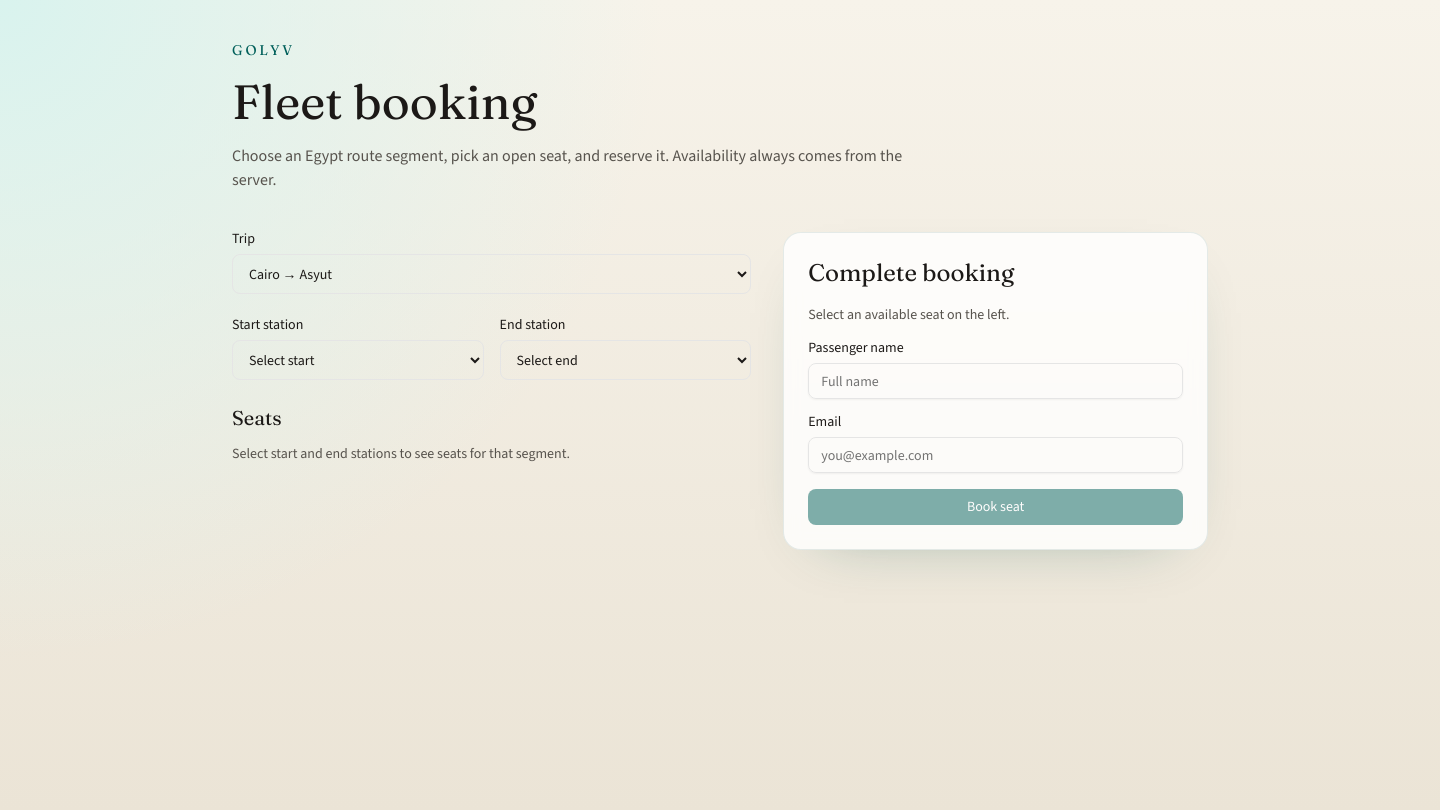
Test: BookingWorkbench › handles booking conflict by refreshing seats and clearing selection
The image size is (1440, 810).
Check: the dropdown labelled "Trip" is shown, box [232, 254, 751, 294]
Select "Cairo" in the dropdown labelled "Start station": (358, 360) [232, 340, 484, 380]
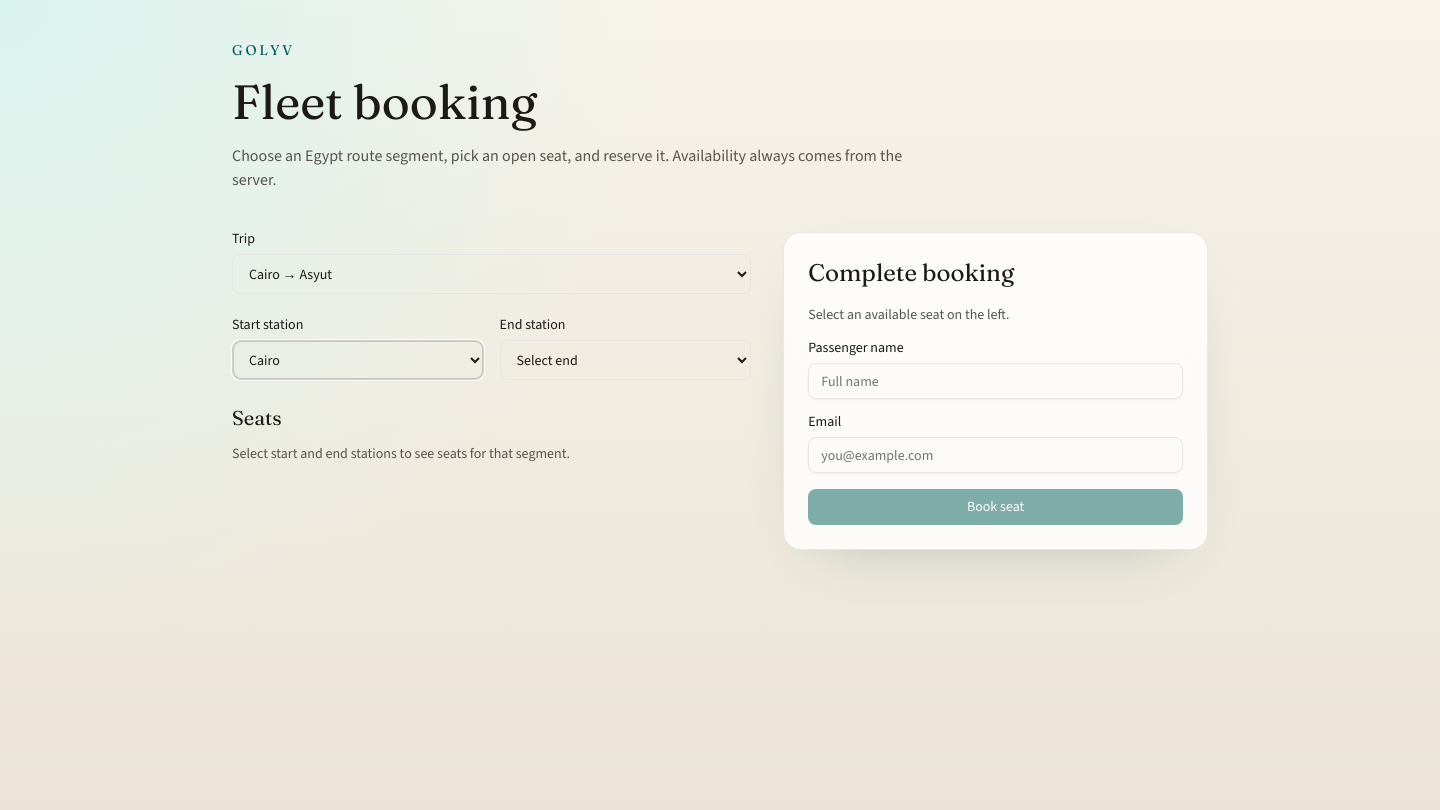
Select "Al Minya" in the dropdown labelled "End station": (625, 360) [500, 340, 751, 380]
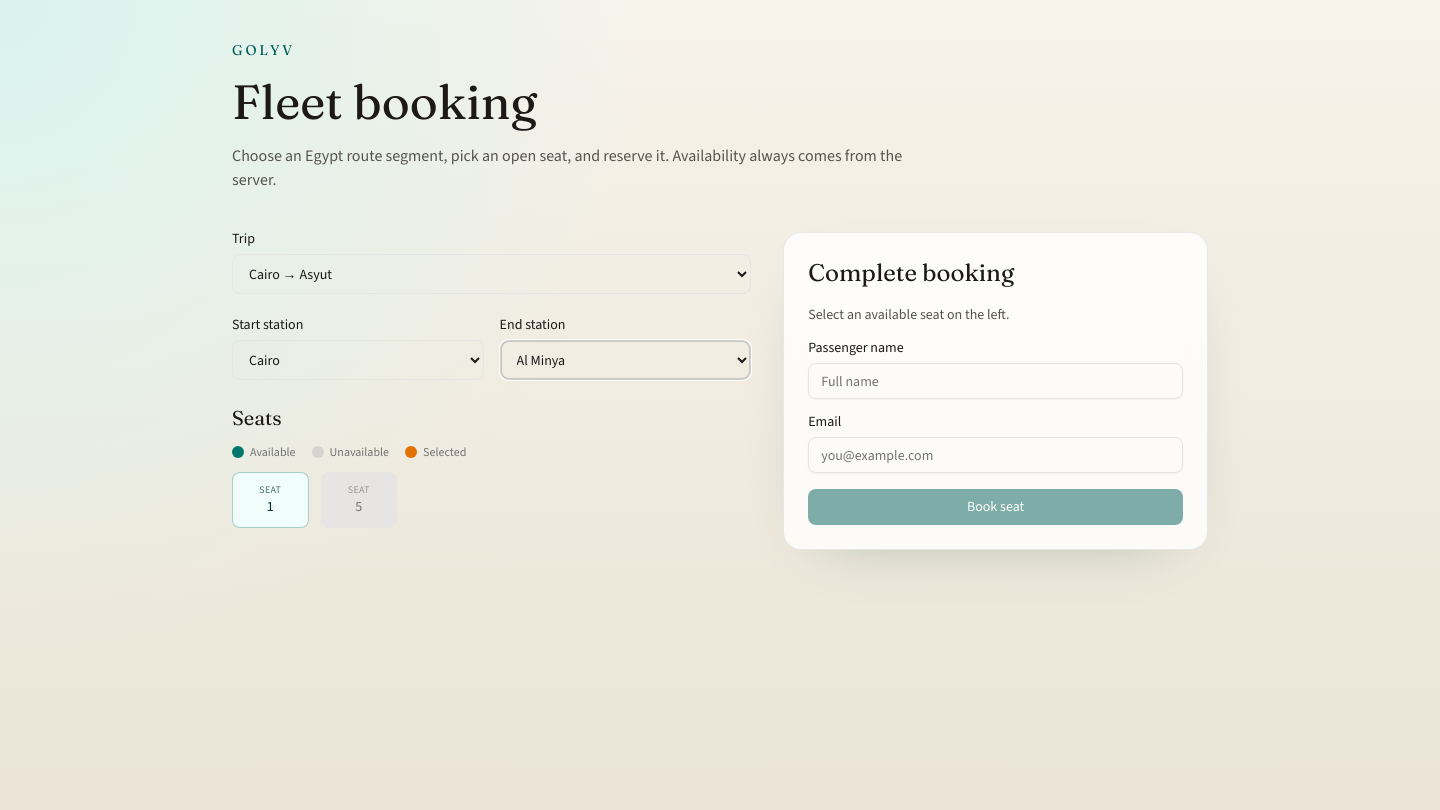
Click the option "Seat 1": (270, 500) [232, 472, 308, 528]
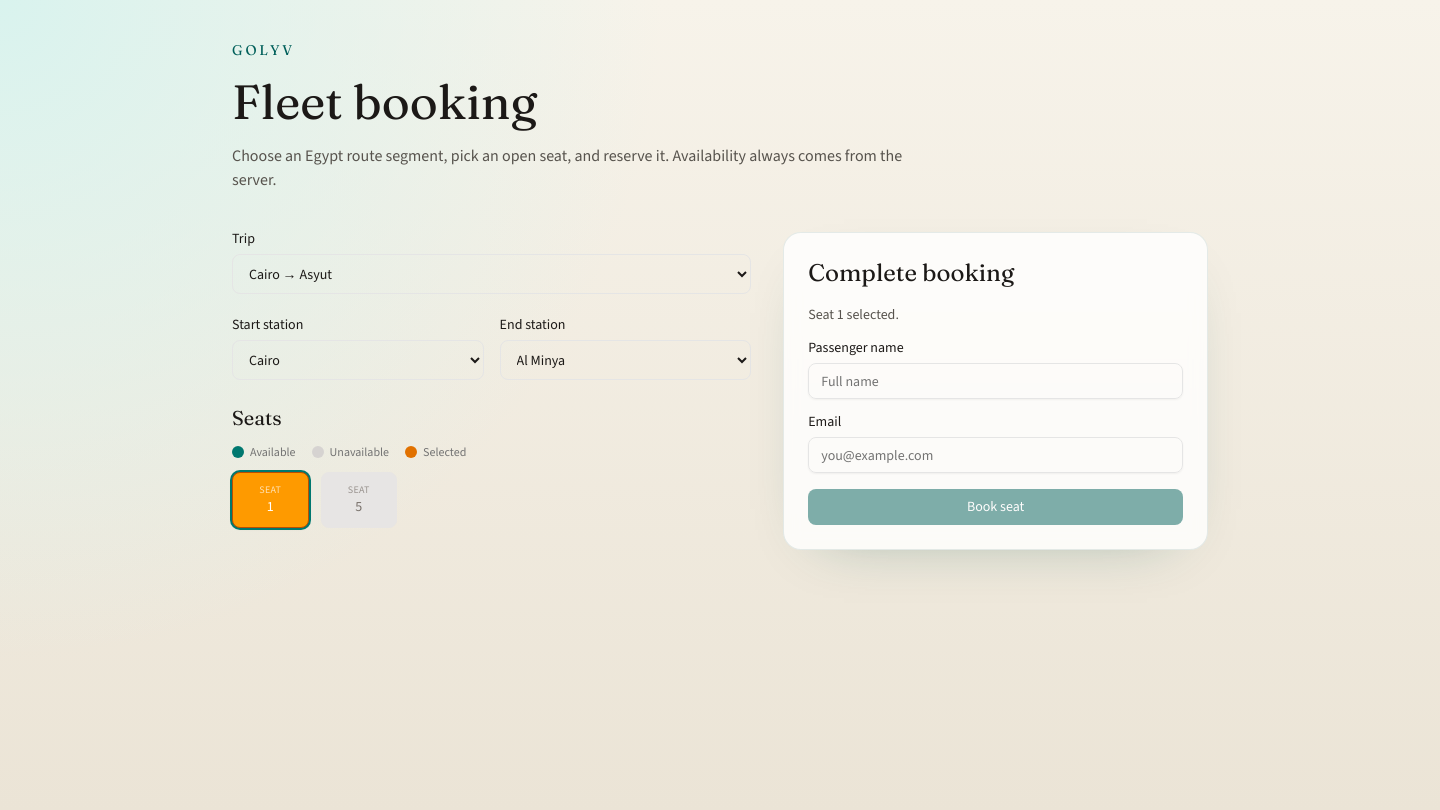
In the field labelled "Passenger name": (996, 381) [808, 363, 1183, 399], type "Ada"
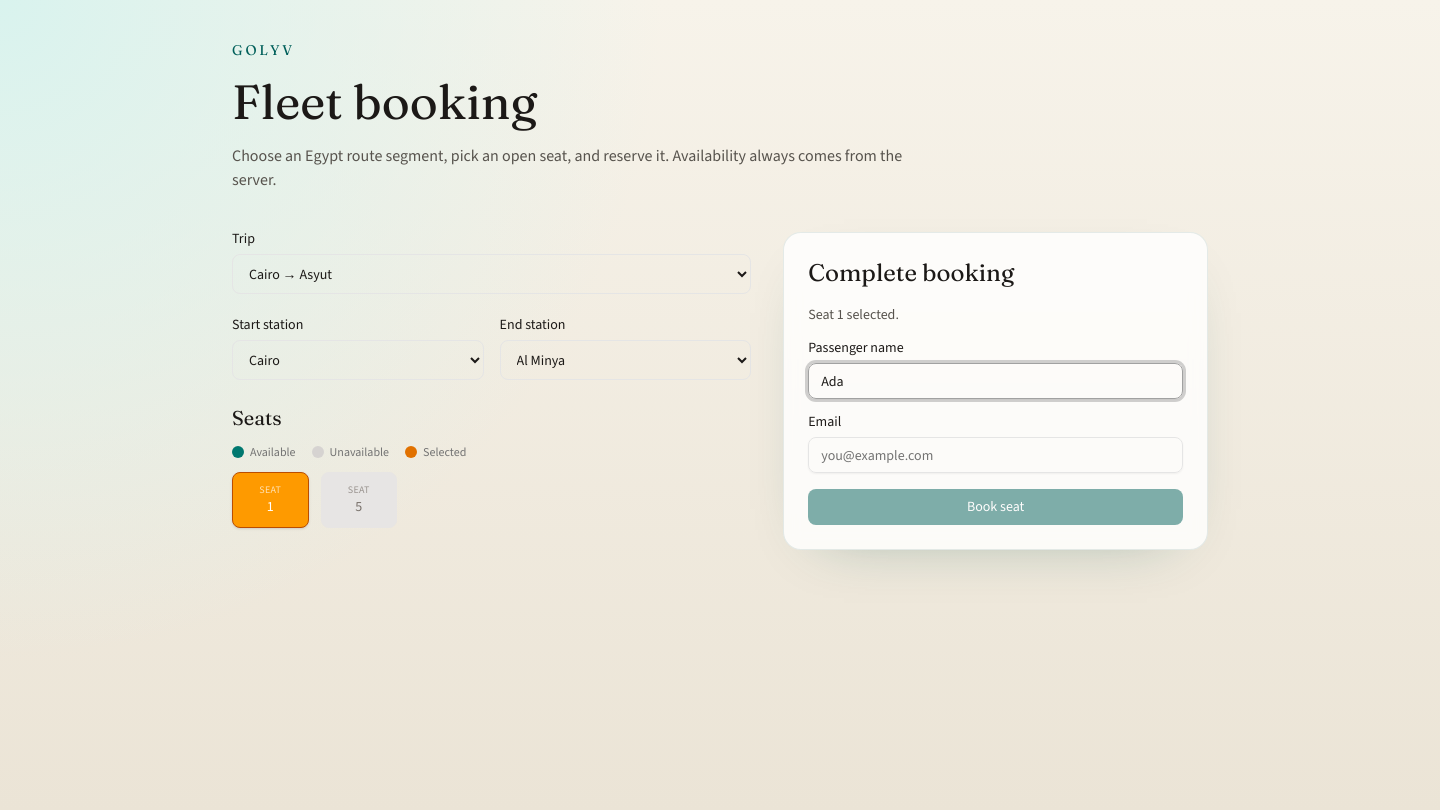
In the field labelled "Email": (996, 455) [808, 437, 1183, 473], type "ada@example.com"
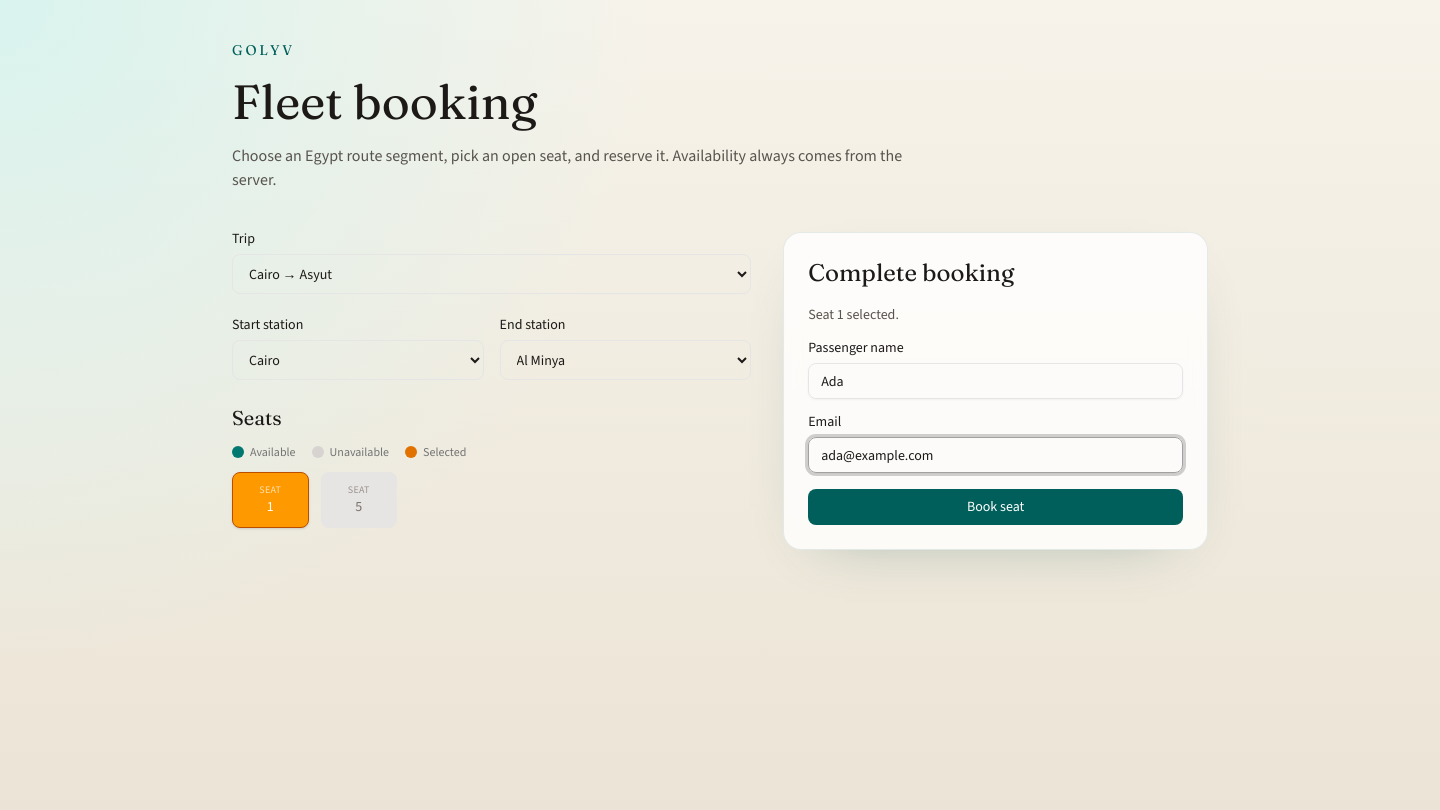
Click the button "Book seat": (996, 507) [808, 489, 1183, 525]
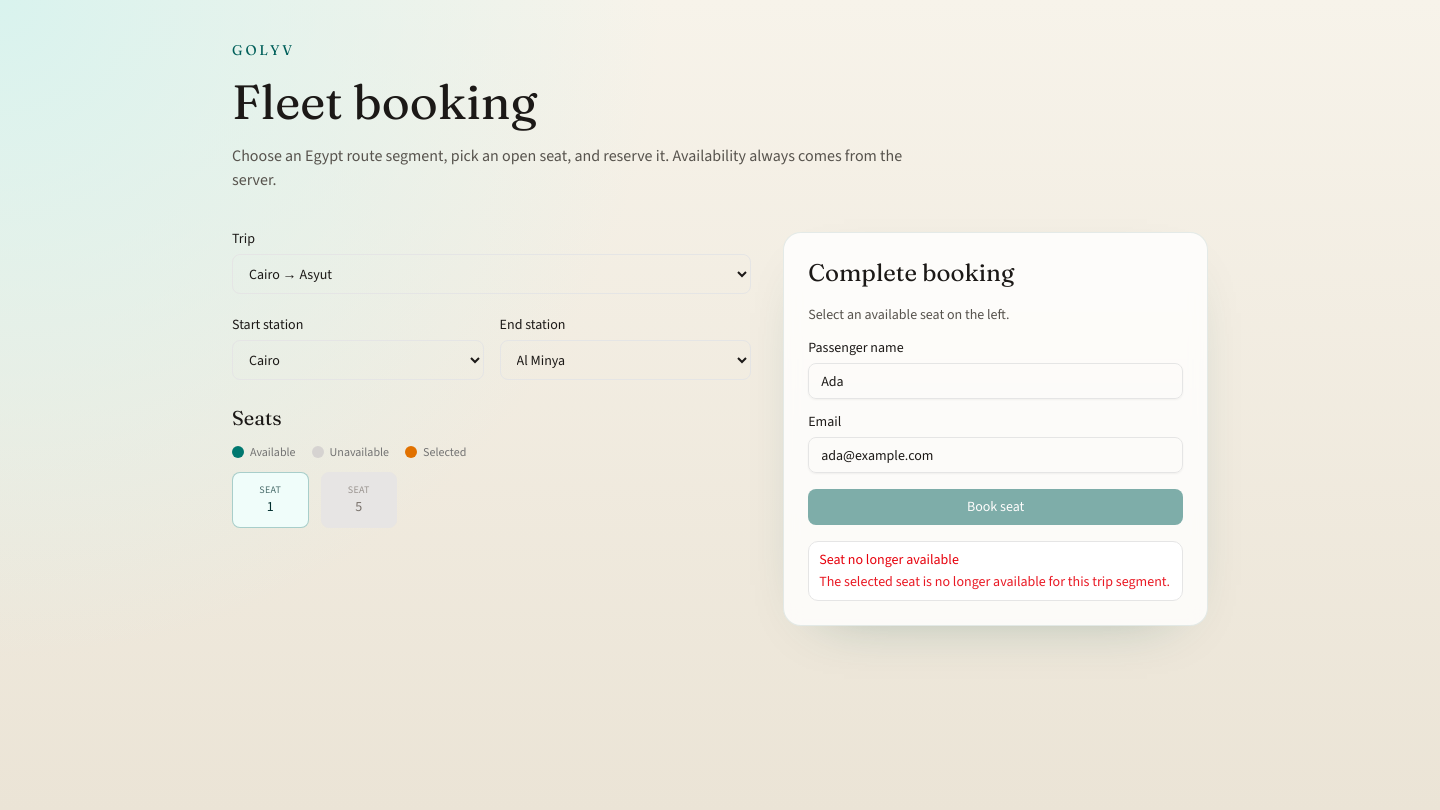
Check: the text "Seat no longer available" is shown, box [819, 550, 959, 569]
